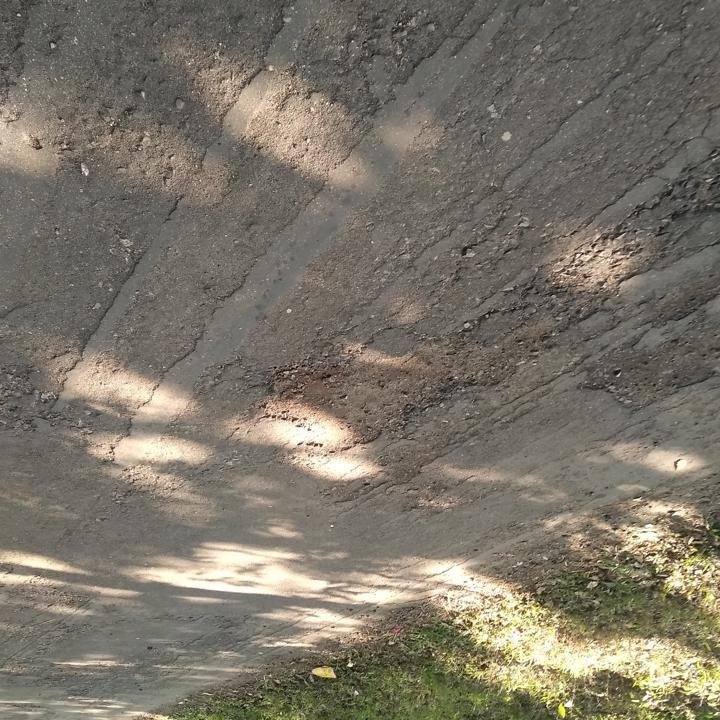pothole: (262, 338, 469, 456), (576, 335, 719, 413)
